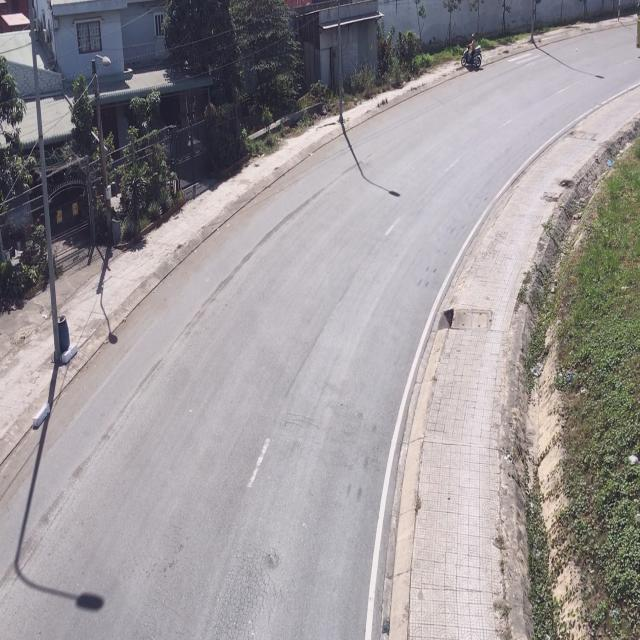motorbike: (460, 35, 483, 74)
